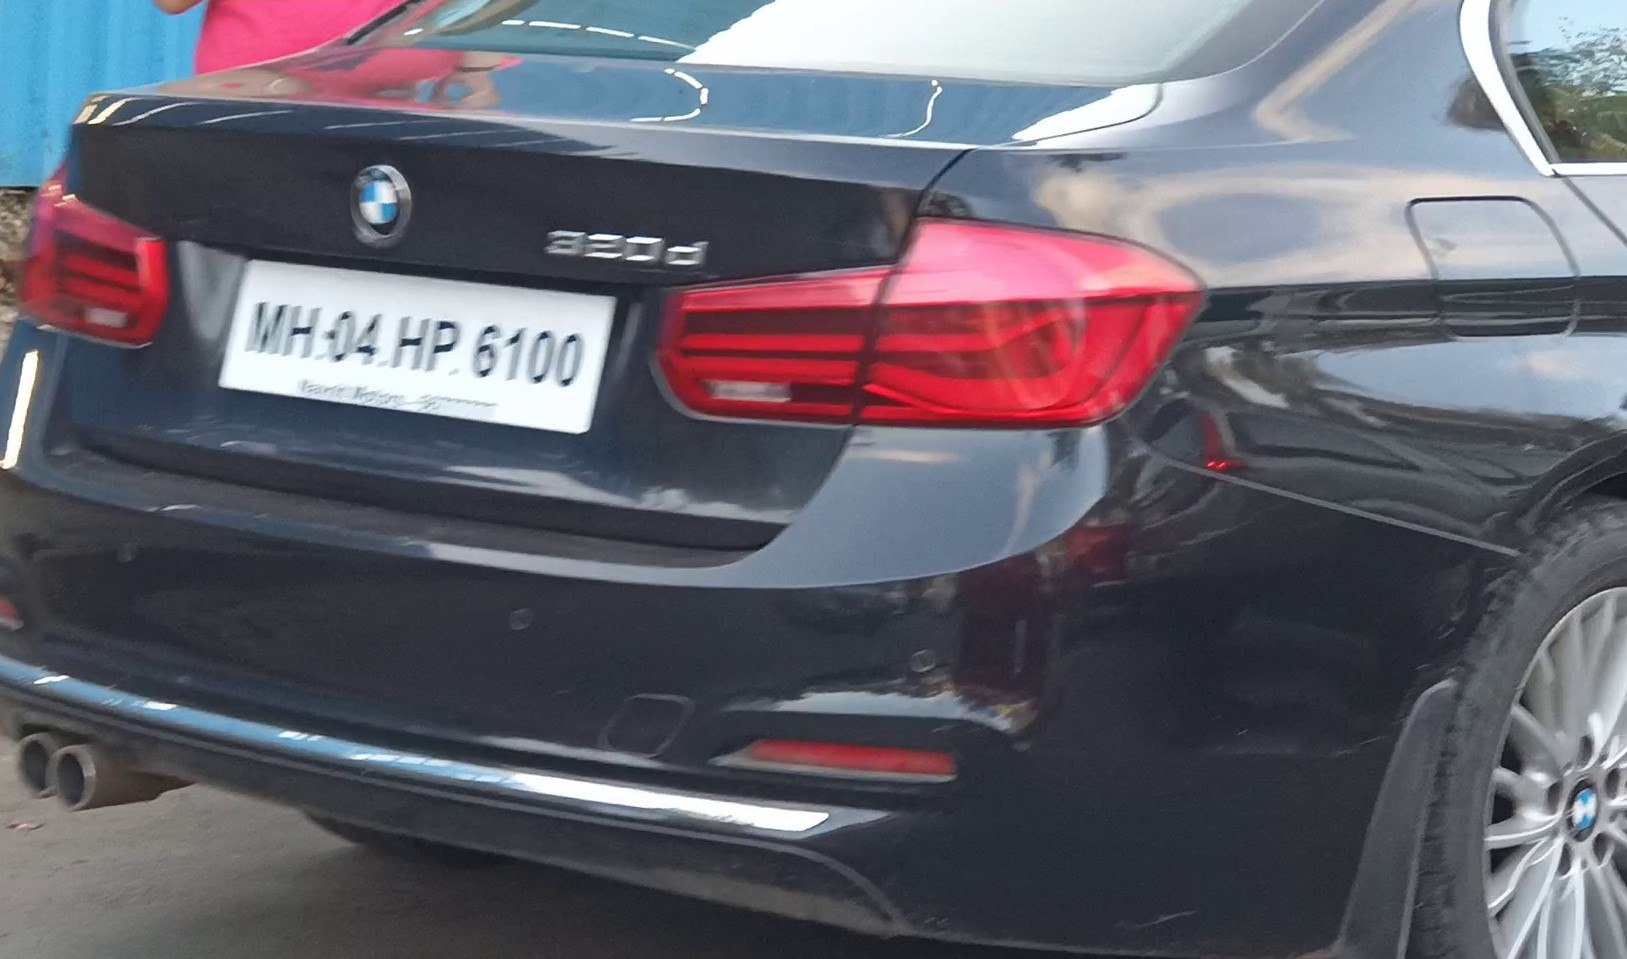MH04HP6100: (214, 257, 618, 437)
